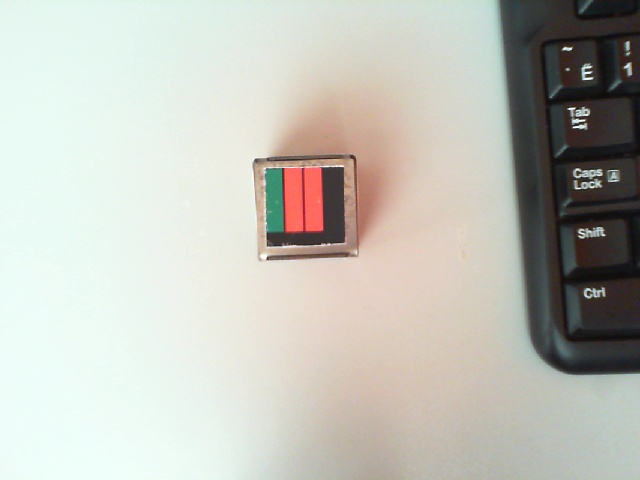square: (264, 167, 346, 246)
